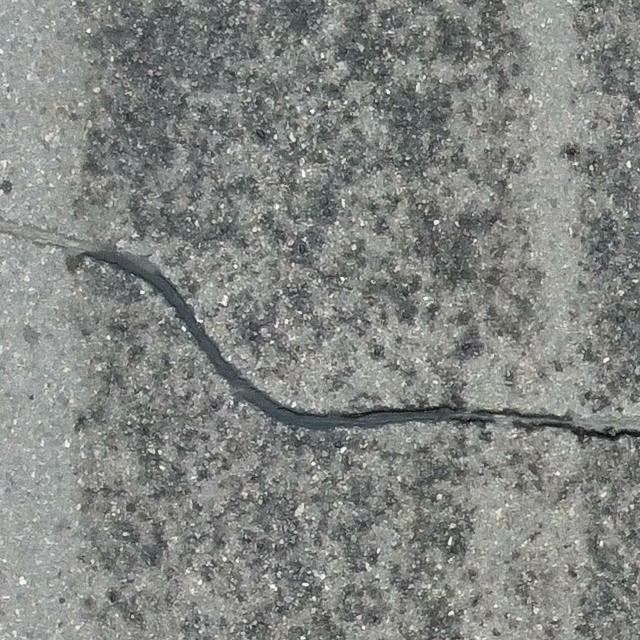TransverseCrack: (1, 218, 640, 442)
